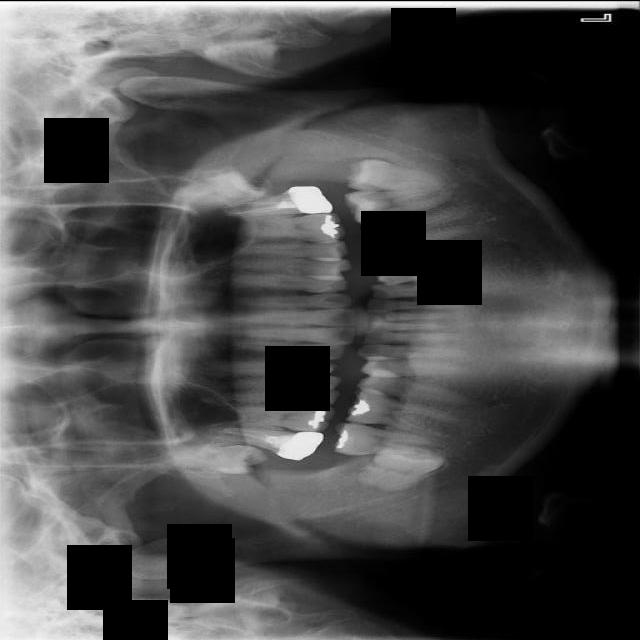3M ESPE Implant: (164, 442, 266, 476)
52: (298, 209, 343, 247), (334, 422, 379, 456), (359, 217, 399, 255), (271, 430, 323, 459), (349, 388, 391, 423), (290, 182, 334, 215), (286, 401, 332, 429), (296, 363, 342, 390)
73: (225, 188, 304, 219), (204, 423, 287, 449), (582, 18, 590, 24)
BioHorizons Implant: (225, 182, 334, 221)
BioLife Implant: (168, 161, 273, 220)
Biomet 3i Implant: (346, 157, 444, 190)
Blue Sky Bio Implant: (345, 184, 452, 222)
Caries: (206, 424, 322, 461)
Implant: (333, 423, 437, 454)
Keystone Dental Implant: (359, 448, 444, 495)
